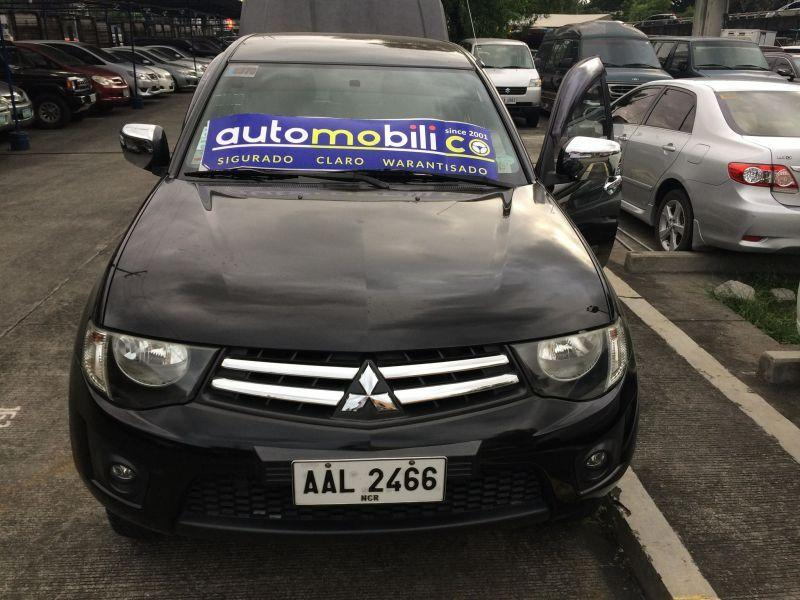plate: (294, 463, 445, 502)
